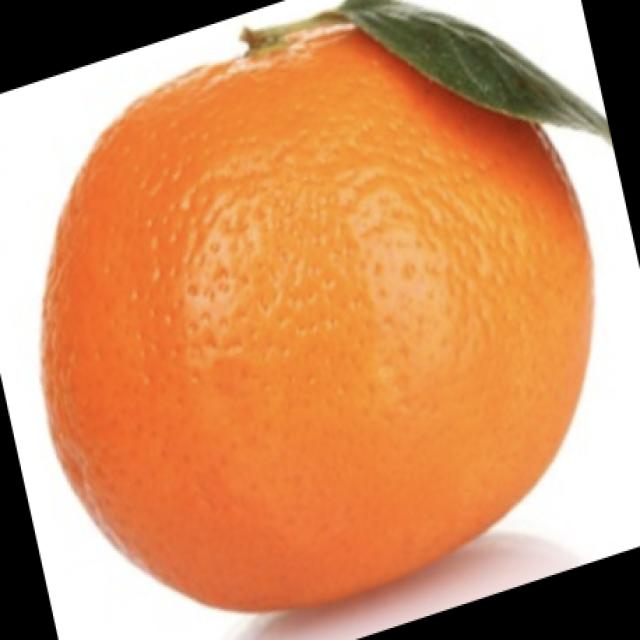fresh: (26, 0, 593, 626)
